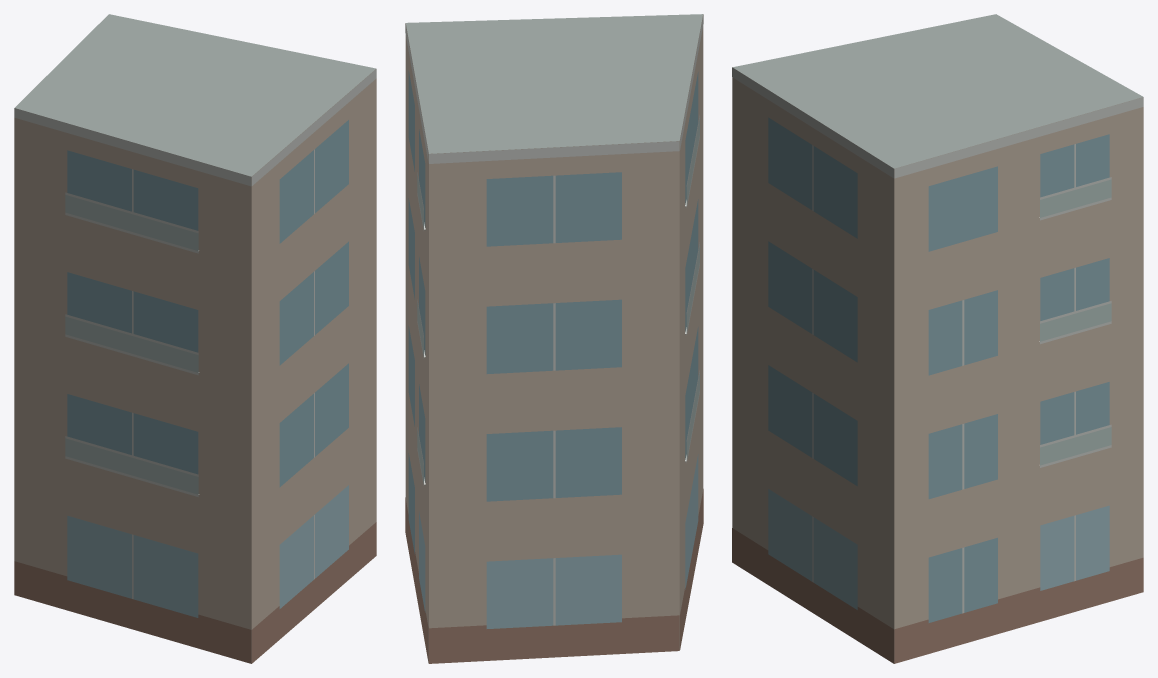
The model's file is survey-upis-32501665.glb.
The picture shows the model from 3 angles, left to right: view 1: azimuth 30°, elevation 25°; view 2: azimuth 150°, elevation 25°; view 3: azimuth 270°, elevation 25°; orthographic projection. The views are drawn at different scales.
Parts seen in each view (by area): view 1: survey-upis-32501665.tmp; view 2: survey-upis-32501665.tmp; view 3: survey-upis-32501665.tmp.
Part boxes in pixels (bbox=[...]): survey-upis-32501665.tmp: bbox=[14, 14, 376, 663]; survey-upis-32501665.tmp: bbox=[405, 14, 703, 663]; survey-upis-32501665.tmp: bbox=[732, 14, 1143, 663].
Bounding box in the file's own units: 8.18 × 12.2 × 9.2.
